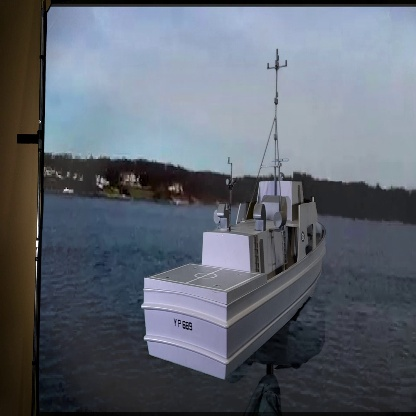YP689: (144, 49, 326, 381)
